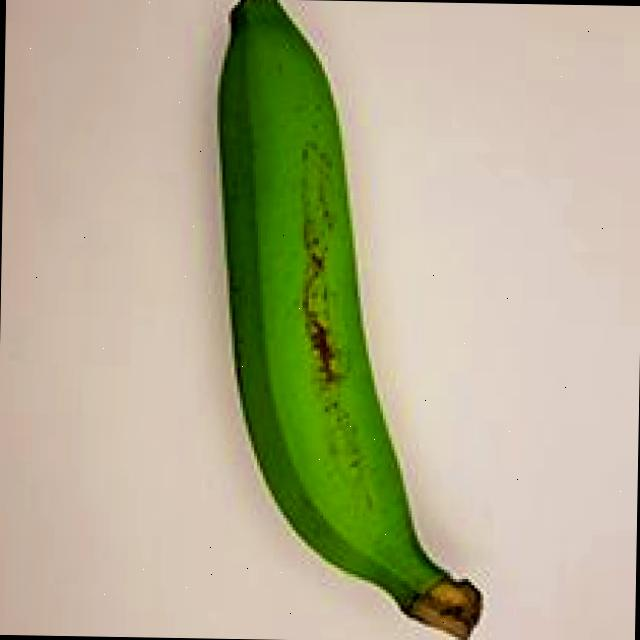Raw: (174, 0, 517, 640)
